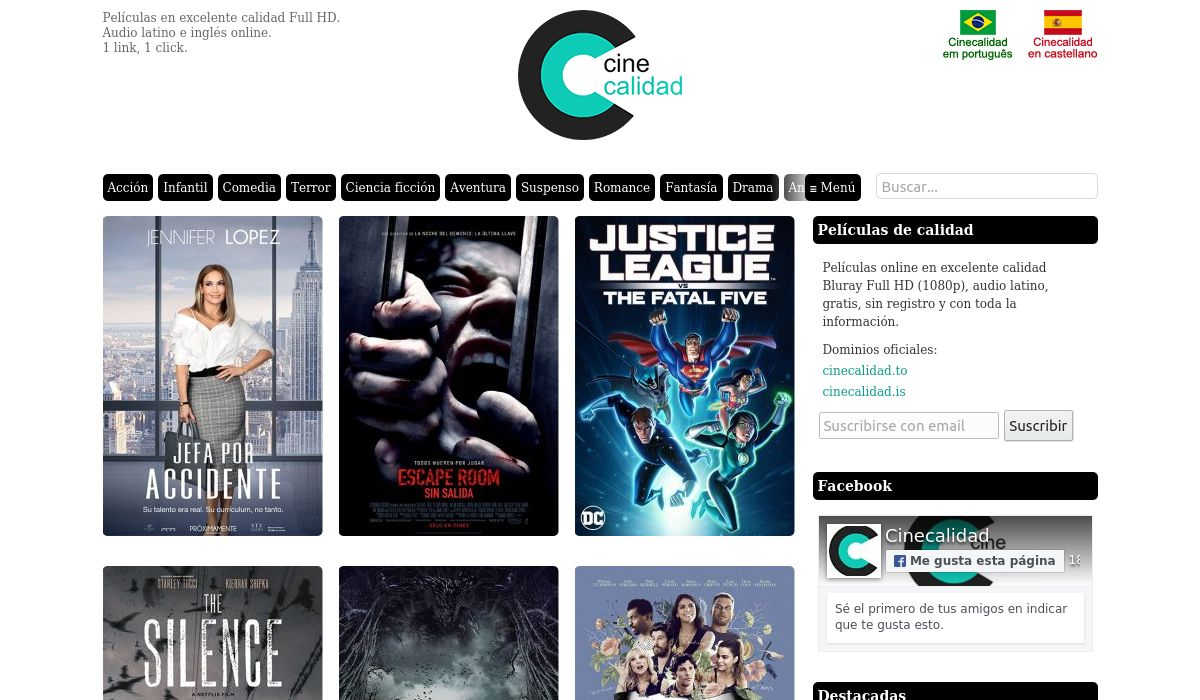menu: (102, 166, 1103, 206)
menu-button: (342, 173, 439, 200), (786, 173, 860, 200), (517, 173, 584, 200), (446, 173, 512, 200), (590, 173, 655, 200), (661, 173, 723, 200), (218, 174, 282, 200), (103, 174, 153, 202), (729, 173, 780, 200), (158, 175, 213, 200), (286, 173, 336, 200)
menu-search: (876, 174, 1098, 199)
